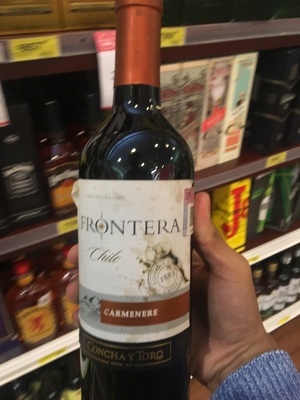frontera carmenere: (67, 12, 202, 400)
